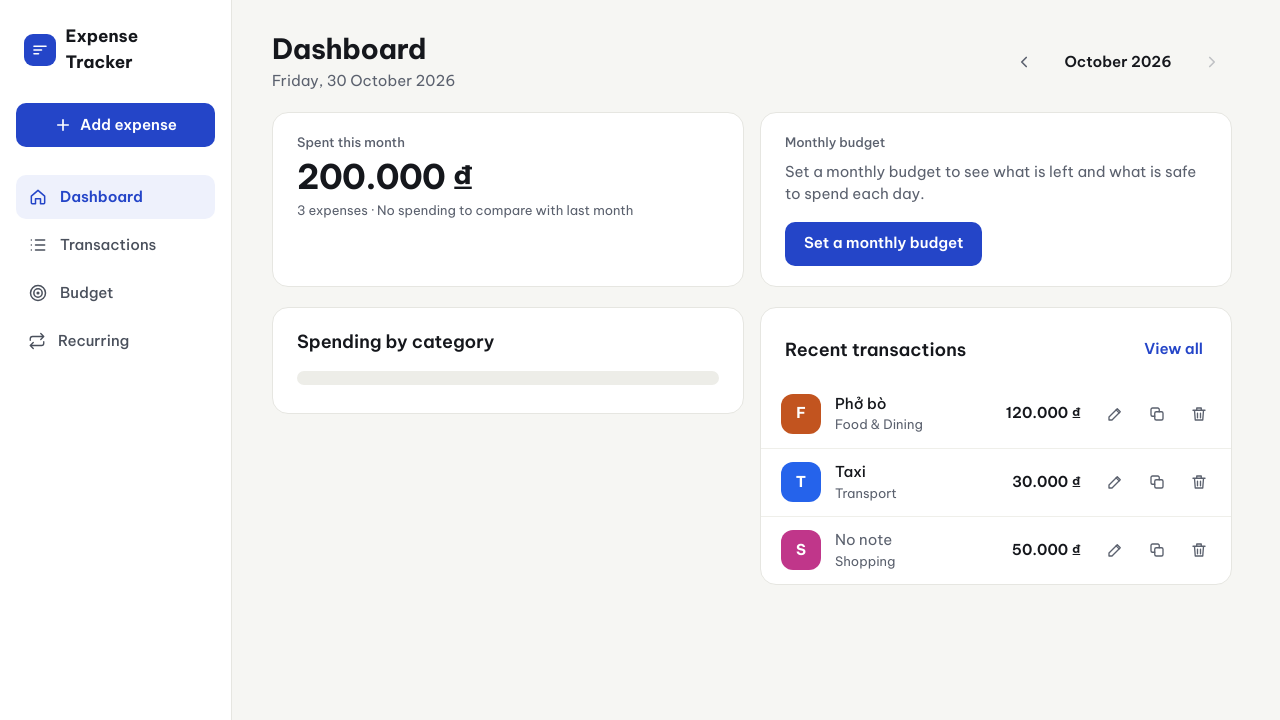
Test: Duplicate form › R14: duplicating row A, cancelling, then duplicating row B shows row B’s values
The width and height of the screenshot is (1280, 720).
Expected: the text "Phở bò" is shown, [835,394,887,413]
Click the button "Transactions" at x=116, y=245, box [16,223,215,267]
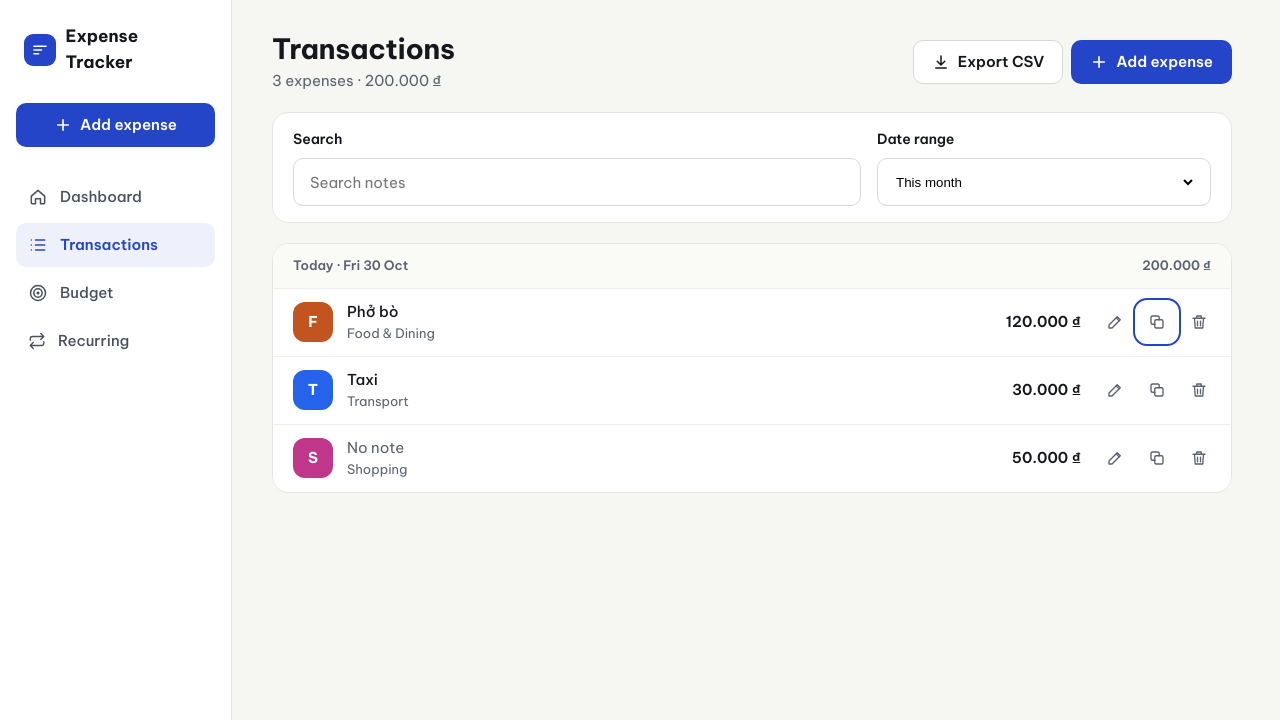
Result: the element named "Expenses" is shown at [272,243,1232,493]
Click the button named "Duplicate Phở bò" at x=1157, y=322, box [1137,302,1177,342]
(page scrolled)
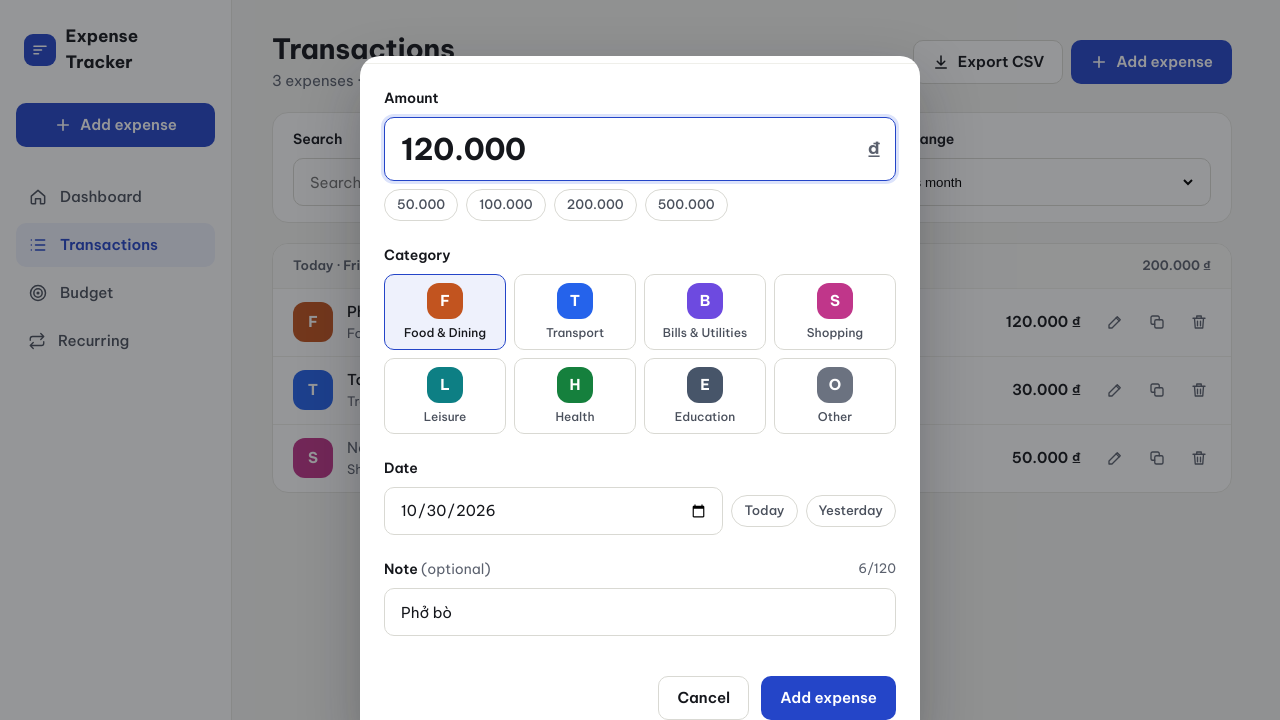
Click the button "Cancel" at x=704, y=698, box [658,676,749,719]
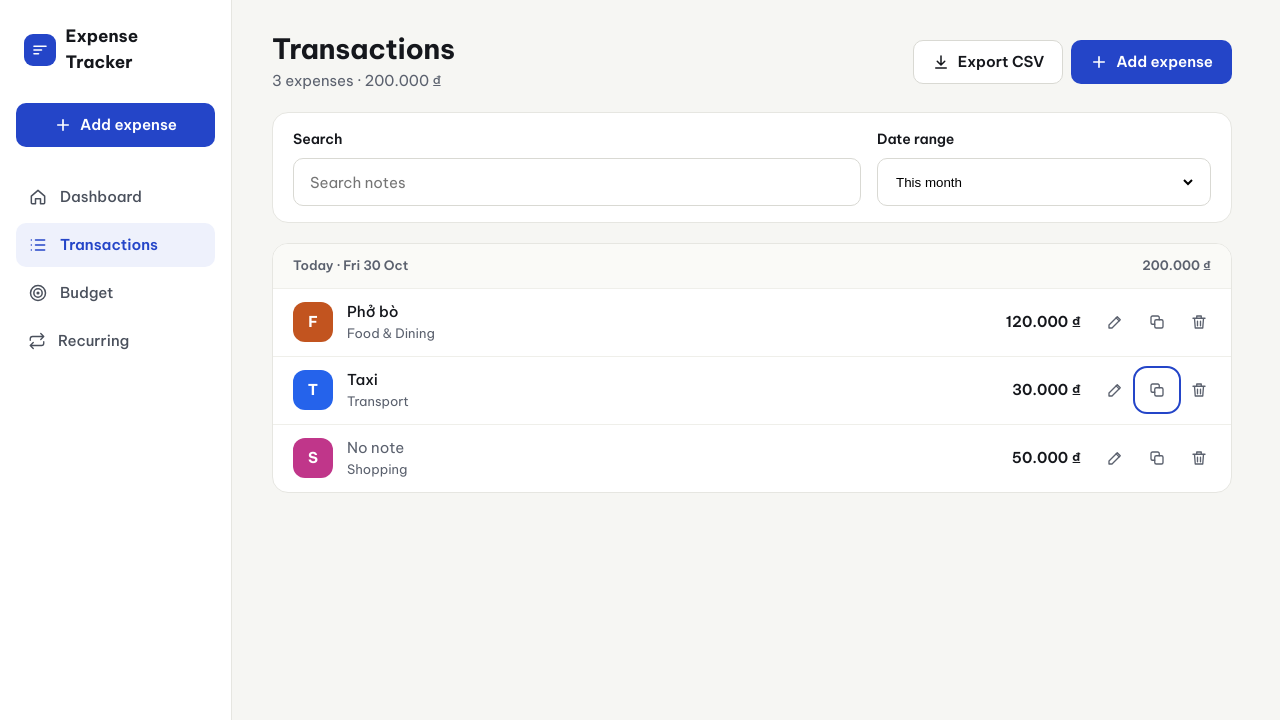
Click the button named "Duplicate Taxi" at x=1157, y=390, box [1137,370,1177,410]
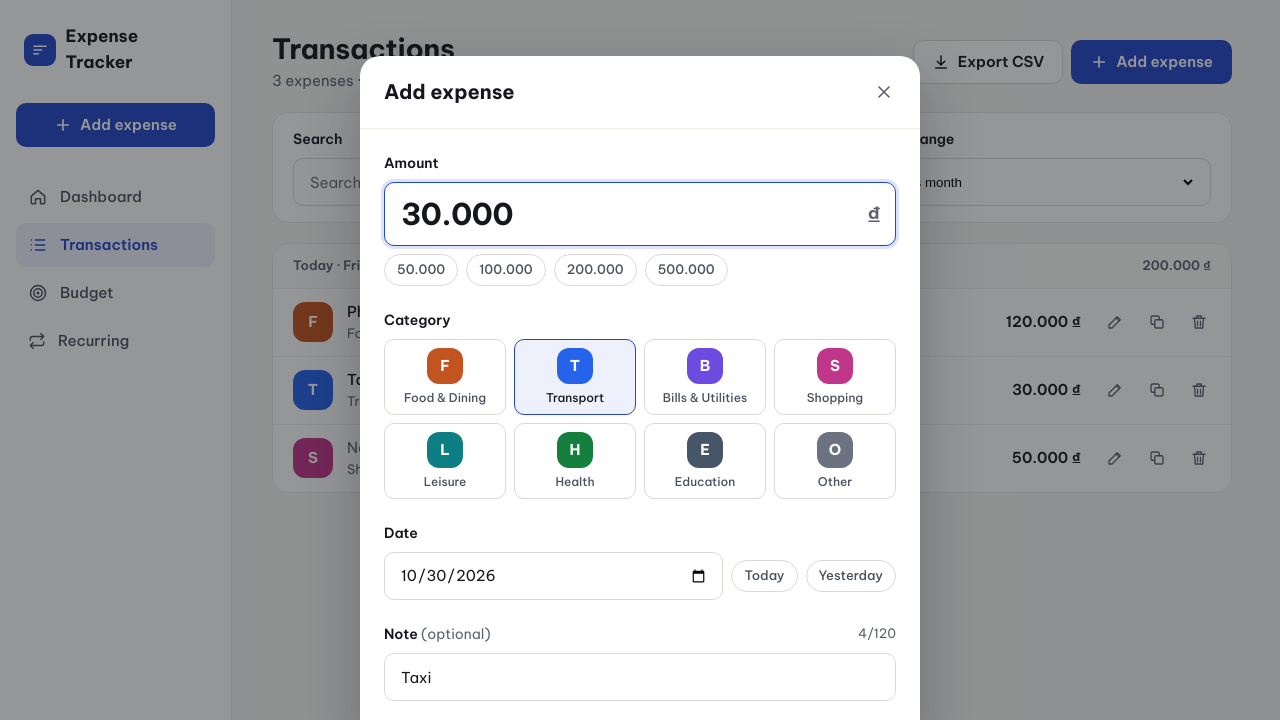
Result: the field labelled "Amount" holds "30.000" at [399,183,857,245]
Result: the field labelled "Note (optional)" holds "Taxi" at [399,654,881,700]
